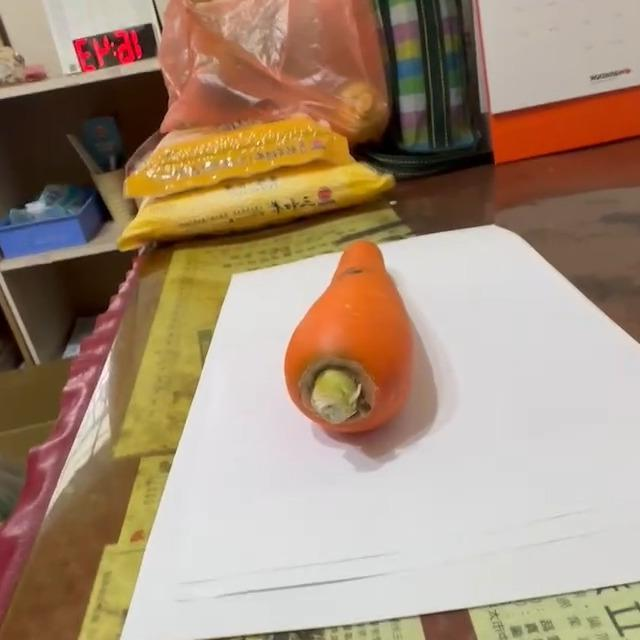carrot: (279, 240, 419, 443)
